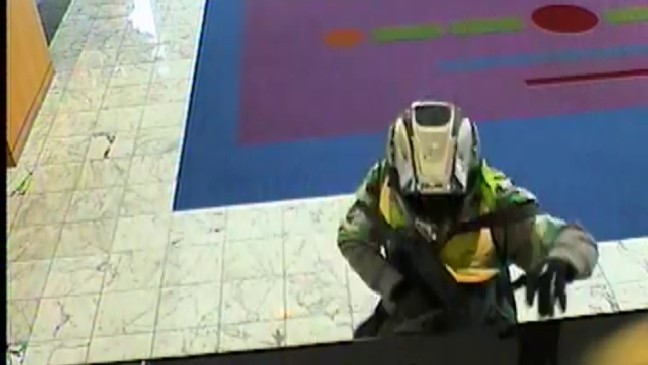helmet: (376, 90, 488, 221)
